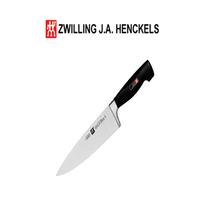knife: (49, 55, 149, 182)
